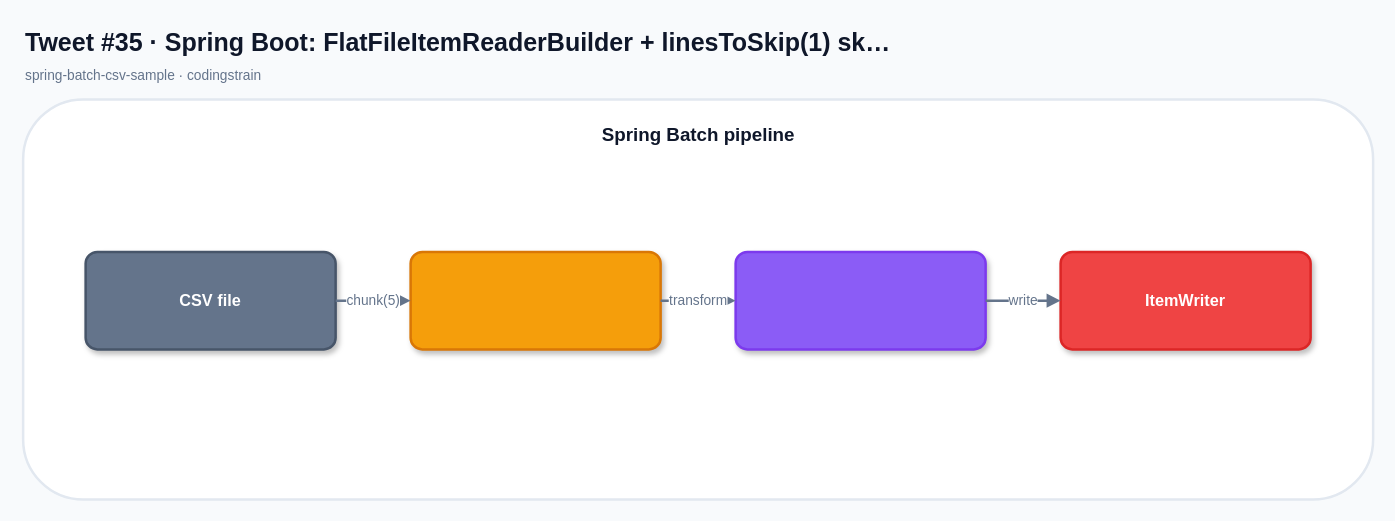
Some shapes in this 1395 by 521 pixel diagram are drawn without their labels. The shapes that lost their labels are listed below. From the top down, each one's centre as x and y in pixels, then its label:
At pixel 536 302: "ItemReader".
At pixel 861 302: "ItemProcessor".
